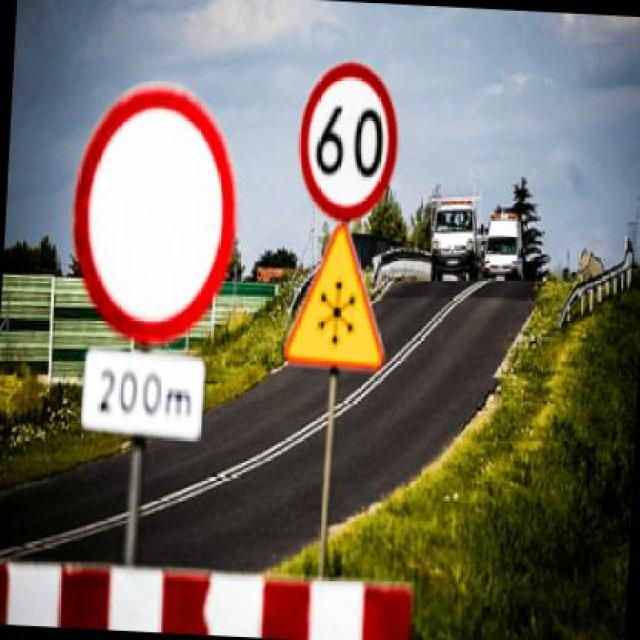Limite-60: (298, 63, 399, 221)
